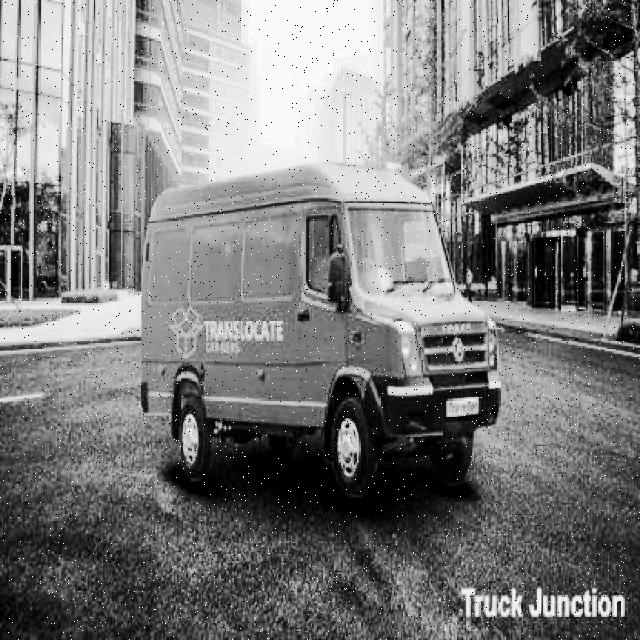LCV: (132, 163, 498, 499)
